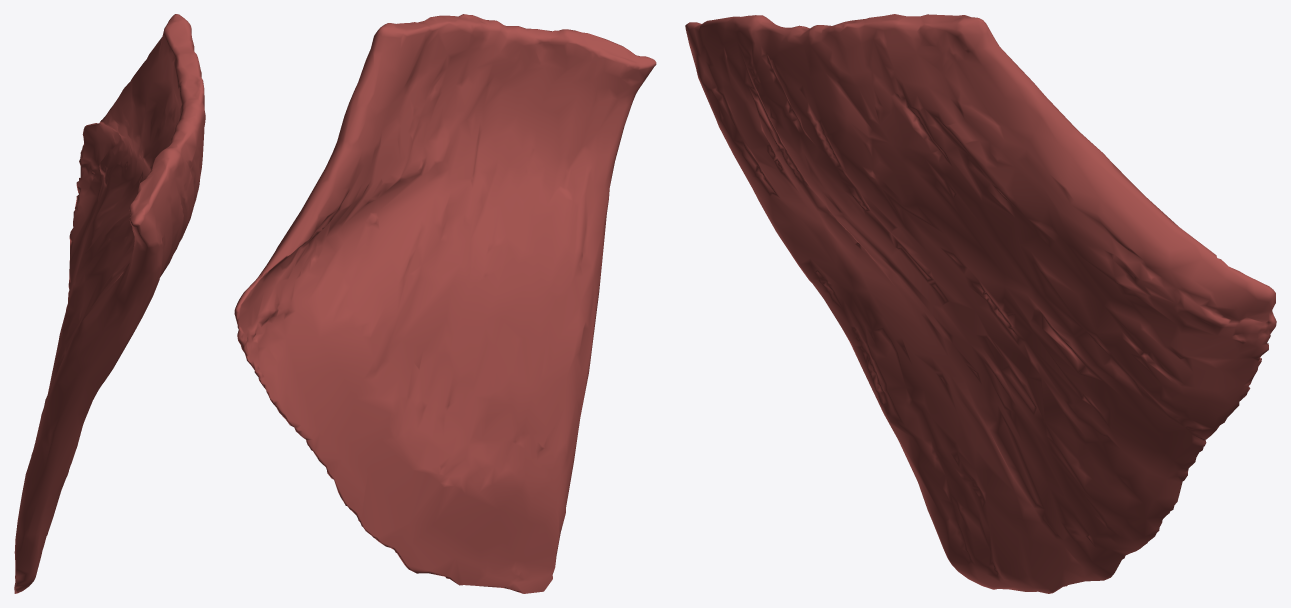
Rendered from FMA13353.glb.
3 views of the same model, side by side, from view 1: azimuth 30°, elevation 25°; view 2: azimuth 150°, elevation 25°; view 3: azimuth 270°, elevation 25° (orthographic). The views are drawn at different scales.
Parts seen in each view (by area): view 1: FMA13353; view 2: FMA13353; view 3: FMA13353.
Part boxes in pixels (x1,y1,x2,y2): FMA13353: (14,14,205,593); FMA13353: (234,14,656,593); FMA13353: (685,14,1276,593).
Size of the model in its own units: 0.0119 by 0.0298 by 0.0242.
